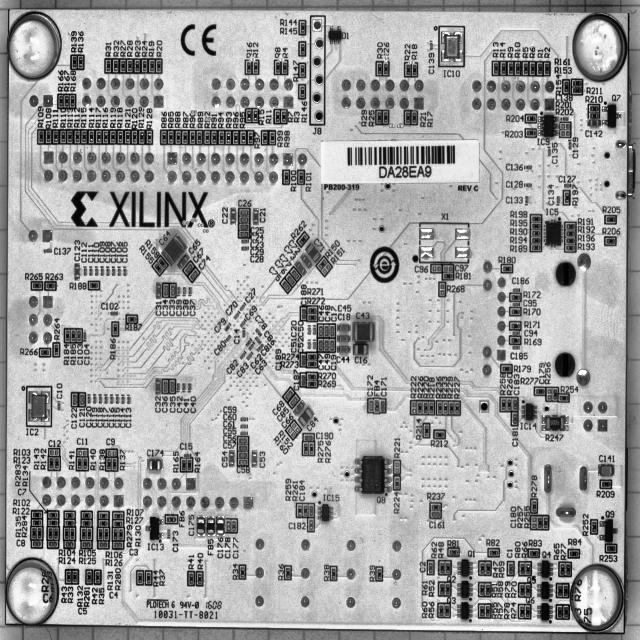PCB: (7, 10, 633, 632)
